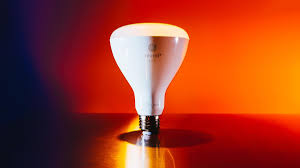bulb: (108, 17, 195, 126)
